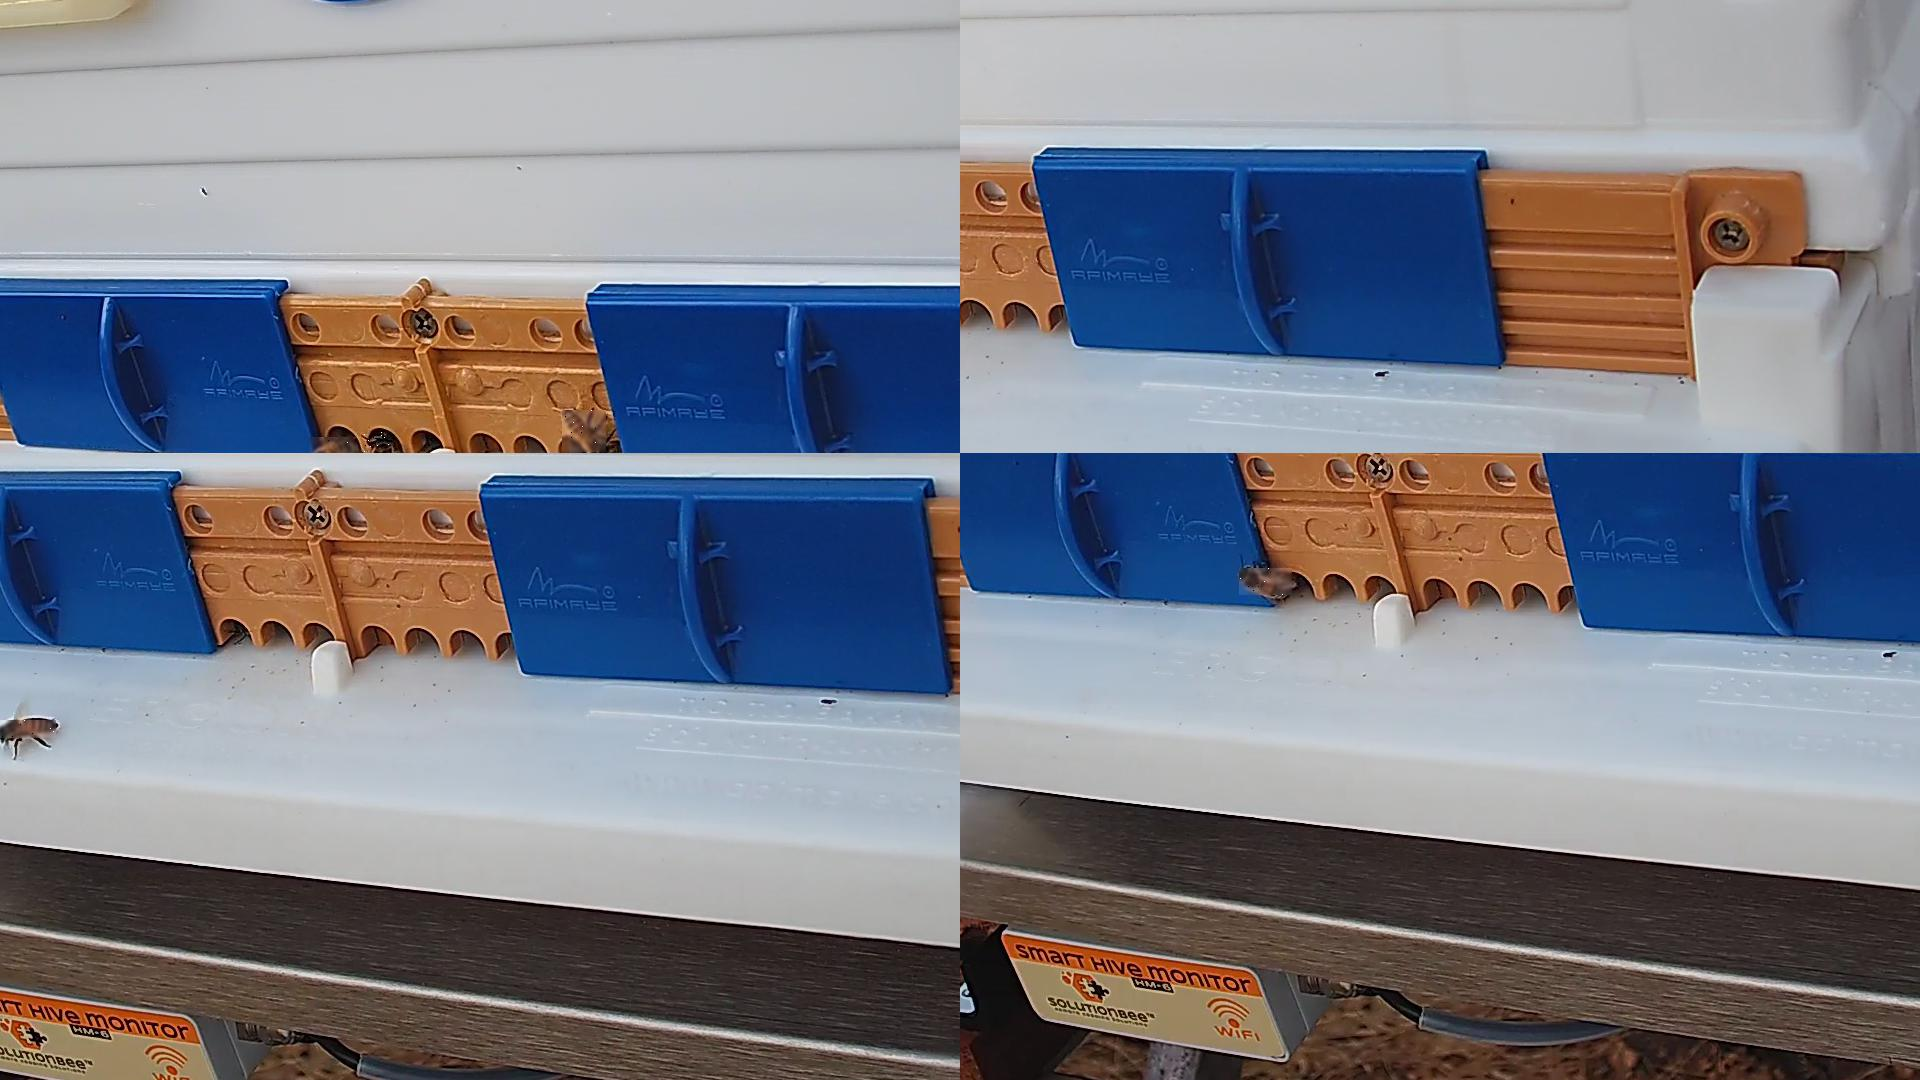bee: (562, 410, 608, 452), (1240, 568, 1295, 596), (0, 720, 58, 740), (310, 436, 359, 452), (364, 431, 396, 452)
